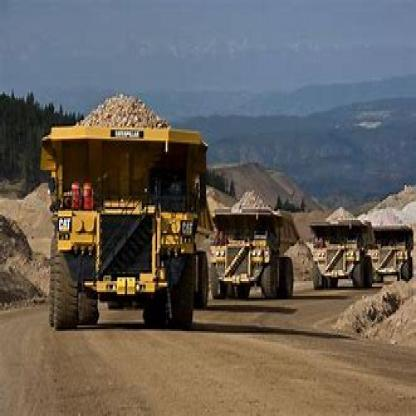dump_truck: (37, 74, 209, 346), (207, 185, 303, 320), (307, 192, 373, 292)
